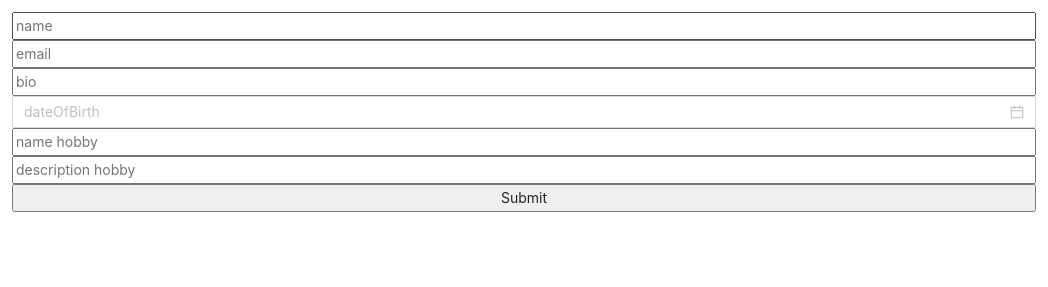
Test case: validate user › validation email should be invalid
In the field with placeholder "email": (524, 54) [12,40,1036,68], type "test"
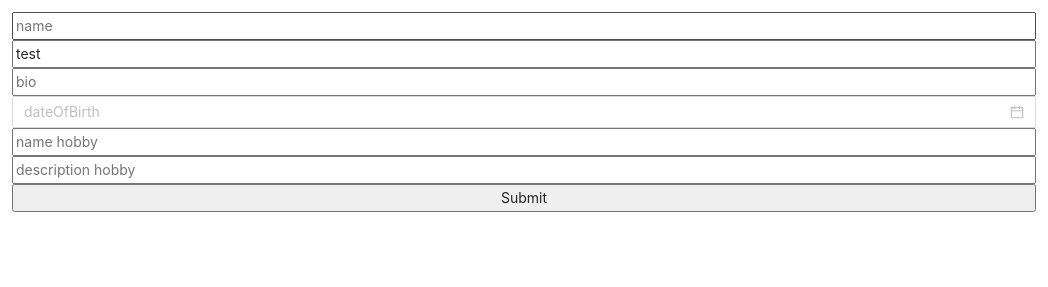
Click the button "Submit": (524, 198) [12,184,1036,212]
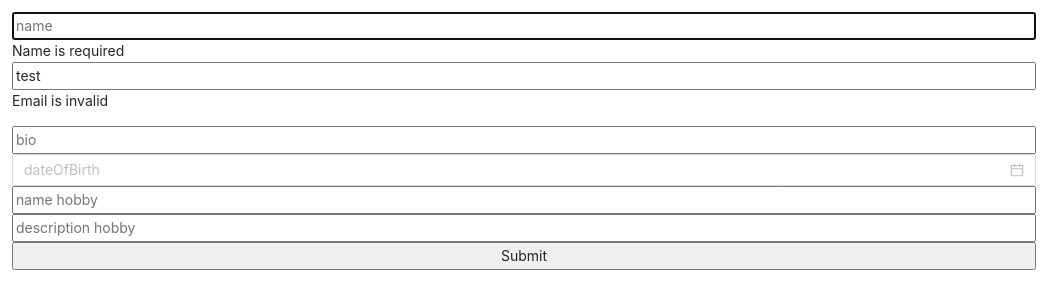
expect the text "Email is invalid" is shown: met, box [12,92,108,109]
